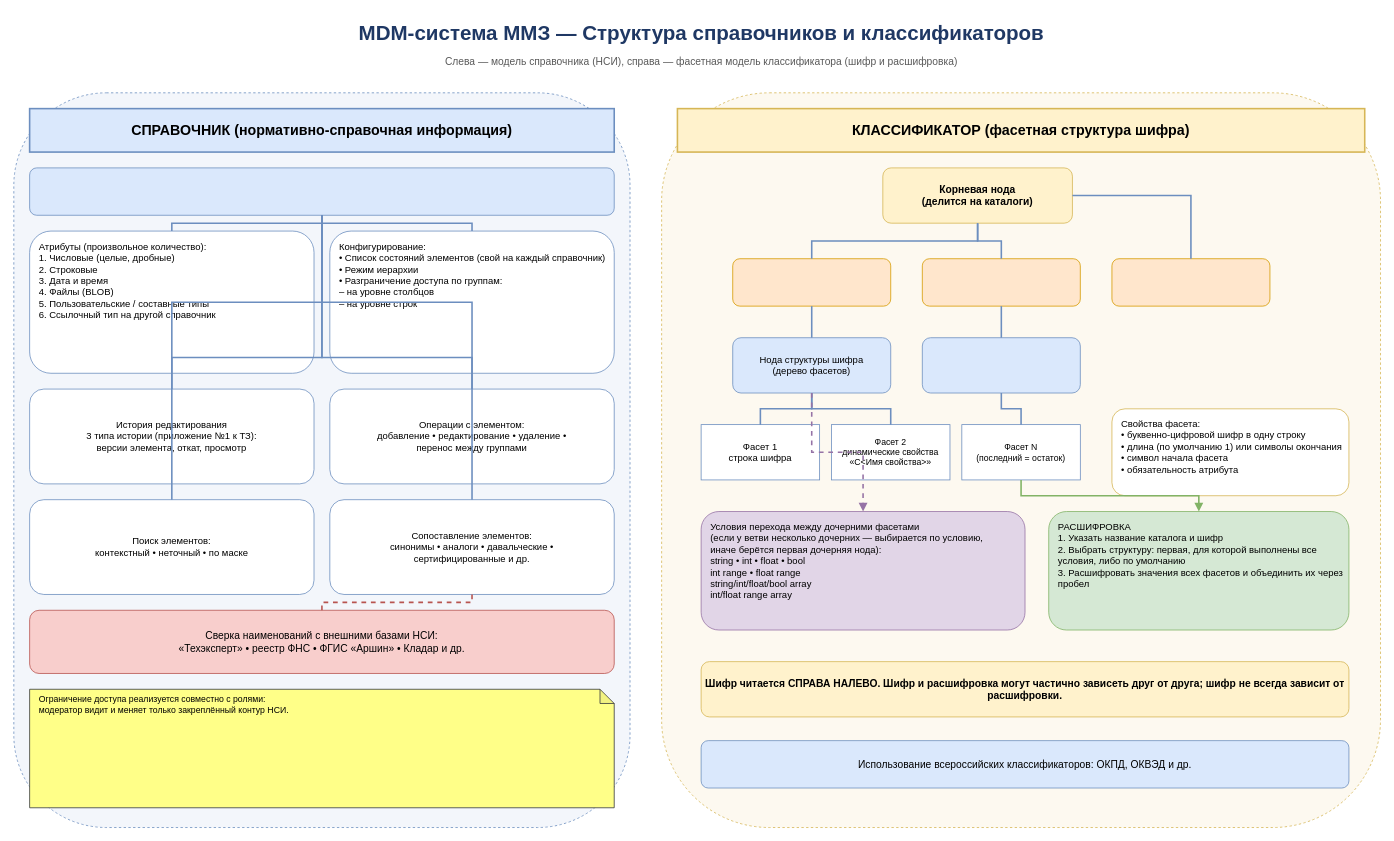
Some shapes in this 1394 by 841 pixel diagram are drawn without their labels. Each missing label, with the centre of its shape:
"Каталог 1" belongs at (811,282).
"Каталог 2" belongs at (1001,282).
"Каталог N" belongs at (1190,282).
"Нода структуры шифра" belongs at (1001,365).
"Элемент справочника (иерархия: группы ↔ элементы; перенос между группами)" belongs at (321,191).
